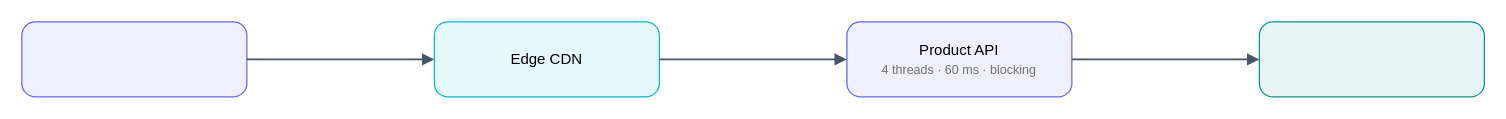
Image size: 1506x119. Some labels were removed from this diagram. The shapes that lost their labels are listed below. From the top down, each one's box as (x1, y1, x2, y2) in pixels, then its label:
(21, 21, 247, 97): Shoppers
(1258, 21, 1484, 97): Catalog DB
